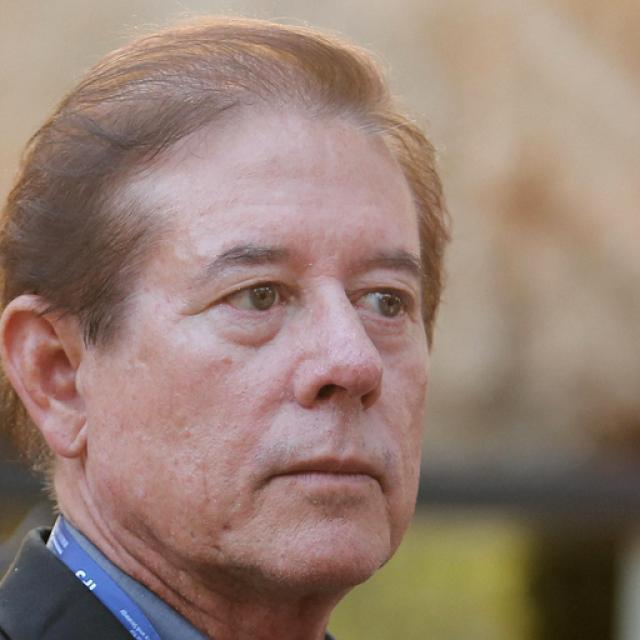neutral: (96, 110, 429, 585)
